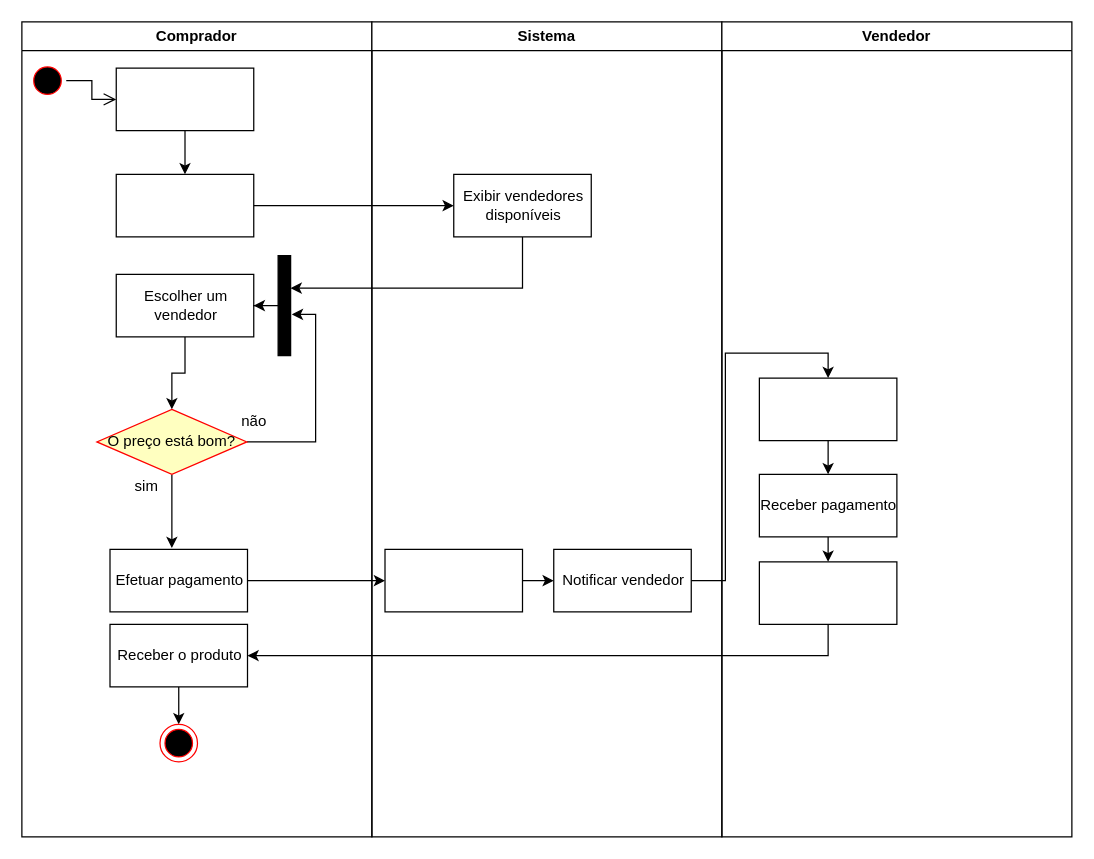
Some shapes in this 1094 by 859 pixel diagram are drawn without their labels. The shapes that lost their labels are listed below. From the top down, each one's centre as x and y in pixels, then its label:
At point 184,99: "Abrir o app".
At point 184,205: "Procurar produtos".
At point 827,409: "Receber a notificação".
At point 453,580: "Intermediar pagamento".
At point 827,592: "Entregar o produto".
